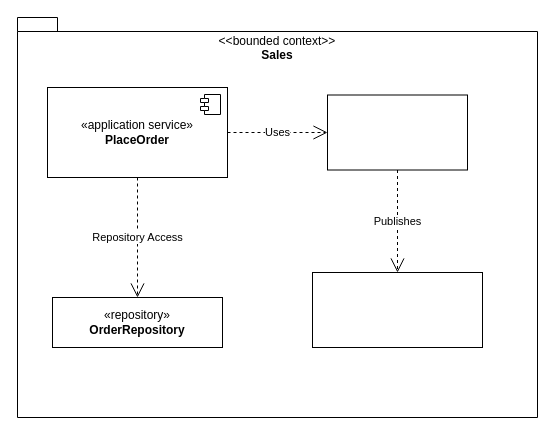
This 555x435 diagram has some shape labels left out. The box of each missing label's shape, as (x1, y1, x2, y2) in pixels:
<<aggregate root>> Order: (326, 94, 468, 170)
<<domain event>> OrderPlaced: (312, 272, 482, 348)
